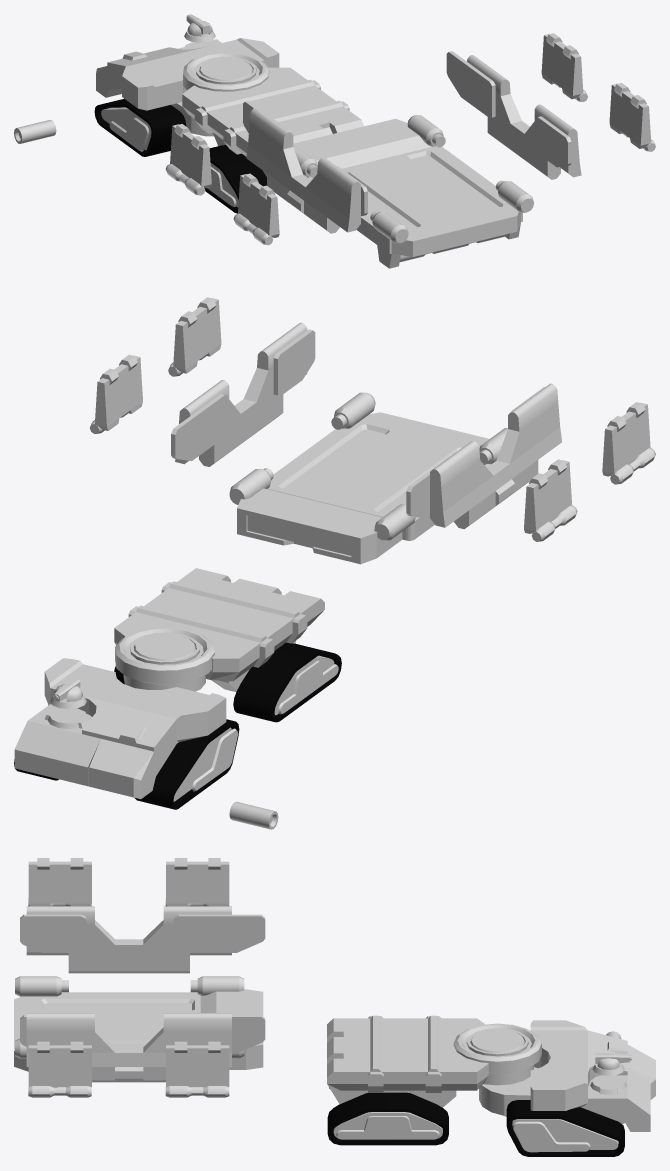
Rendered from Savior_EXPL.fbx.
3 views of the same model, one above another, from view 1: azimuth 30°, elevation 25°; view 2: azimuth 150°, elevation 25°; view 3: azimuth 270°, elevation 25° (orthographic). The views are drawn at different scales.
Parts seen in each view (by area): view 1: bed, trailer, body, bedl, bedr, flapl1, flapl2, flapr1, flapr2, trackl1, trackl2, wheel1 (+1 smaller); view 2: bed, body, trailer, bedl, bedr, trackl2, flapl2, flapl1, trackl1, flapr2, flapr1, wheel1; view 3: trailer, body, bedl, bed, bedr, flapr1, flapr2, trackr2, flapl1, flapl2, trackr1, turret_1.
Part boxes in pixels (x1=…): bed: x1=293, y1=115, x2=533, y2=268; trailer: x1=182, y1=52, x2=363, y2=207; body: x1=96, y1=38, x2=279, y2=151; bedl: x1=243, y1=100, x2=367, y2=233; bedr: x1=446, y1=51, x2=581, y2=179; flapl1: x1=165, y1=124, x2=211, y2=195; flapl2: x1=233, y1=173, x2=279, y2=245; flapr1: x1=541, y1=33, x2=587, y2=101; flapr2: x1=609, y1=83, x2=655, y2=151; trackl1: x1=94, y1=98, x2=186, y2=156; trackl2: x1=204, y1=145, x2=266, y2=213; wheel1: x1=14, y1=120, x2=56, y2=143; bed: x1=229, y1=392, x2=507, y2=564; body: x1=14, y1=658, x2=237, y2=801; trailer: x1=114, y1=568, x2=338, y2=715; bedl: x1=406, y1=383, x2=561, y2=529; bedr: x1=171, y1=322, x2=315, y2=466; trackl2: x1=233, y1=642, x2=341, y2=722; flapl2: x1=602, y1=402, x2=655, y2=484; flapl1: x1=524, y1=459, x2=577, y2=541; trackl1: x1=134, y1=719, x2=239, y2=809; flapr2: x1=168, y1=297, x2=221, y2=376; flapr1: x1=90, y1=354, x2=142, y2=434; wheel1: x1=229, y1=801, x2=278, y2=829; trailer: x1=327, y1=1015, x2=541, y2=1139; body: x1=479, y1=1020, x2=655, y2=1152; bedl: x1=20, y1=906, x2=265, y2=973; bed: x1=14, y1=976, x2=263, y2=1087; bedr: x1=20, y1=1013, x2=265, y2=1082; flapr1: x1=165, y1=1041, x2=229, y2=1097; flapr2: x1=28, y1=1041, x2=91, y2=1097; trackr2: x1=327, y1=1092, x2=448, y2=1145; flapl1: x1=165, y1=858, x2=229, y2=906; flapl2: x1=28, y1=858, x2=91, y2=906; trackr1: x1=506, y1=1100, x2=624, y2=1156; turret_1: x1=592, y1=1058, x2=624, y2=1075.
Bounding box in the file's own units: 3400 × 4746 × 1415.
Materials: 1 (1 with a texture image).
